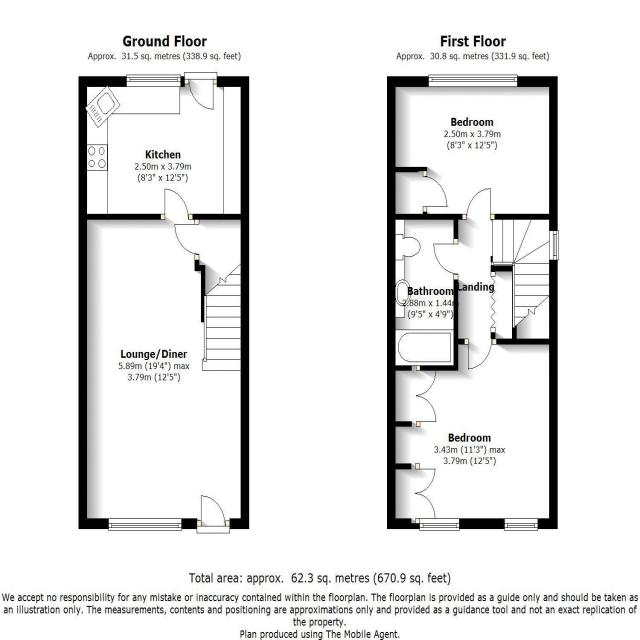DOOR: (196, 495, 231, 534), (184, 71, 218, 111), (173, 219, 200, 261), (159, 188, 194, 220), (462, 187, 495, 220), (433, 238, 458, 280), (464, 339, 497, 370)
ROOM: (78, 188, 250, 534), (387, 338, 558, 532), (78, 71, 250, 220), (387, 74, 558, 220)
WINDOW: (428, 74, 518, 88), (108, 518, 182, 531), (126, 74, 181, 87), (419, 518, 460, 531), (504, 518, 538, 531), (549, 230, 560, 261)
